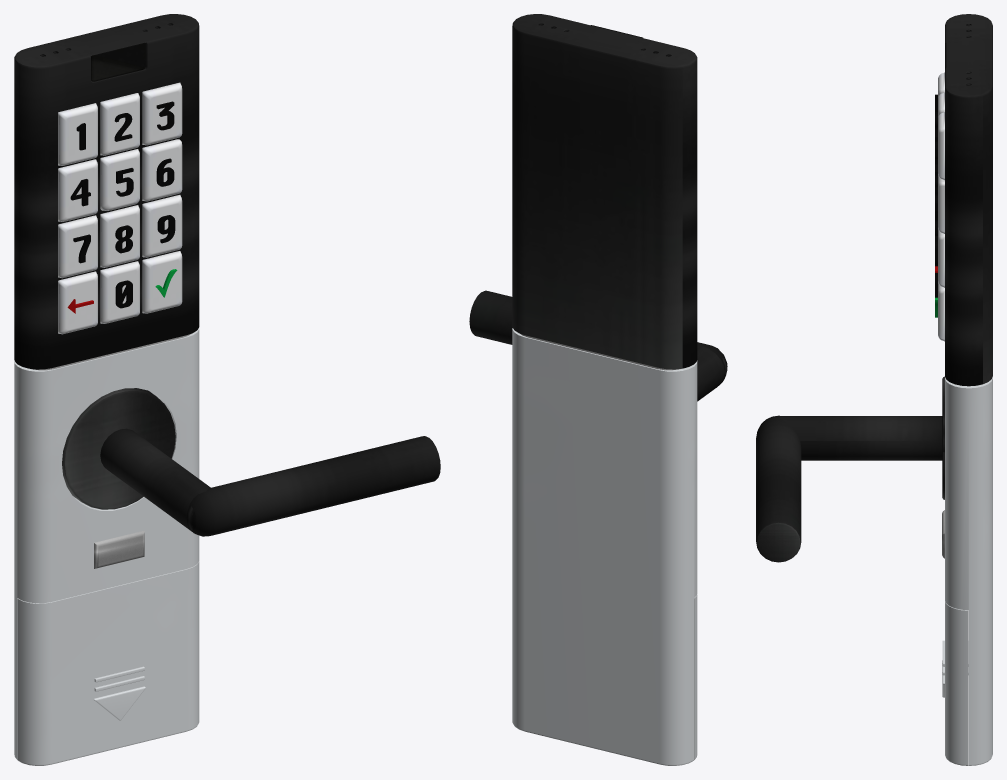
Rendered from wk16_final_dong_jennifer.fbx.
The picture shows the model from 3 angles, left to right: view 1: azimuth 30°, elevation 25°; view 2: azimuth 150°, elevation 25°; view 3: azimuth 270°, elevation 25°; orthographic projection. The views are drawn at different scales.
Visible parts, largest first — view 1: body_lower2, body_upper7, handle_bar, pCylinder2, handle_stem_thing, pound_key, back_key, one, seven, three, two, nine (+8 smaller); view 2: body_lower2, body_upper7, handle_bar, handle_stem_thing; view 3: body_lower2, body_upper7, handle_stem_thing, handle_bar, three.
Boxes of the visible parts, box(x1,y1,x2,y2) form: body_lower2: box(14, 328, 199, 765); body_upper7: box(14, 14, 199, 369); handle_bar: box(187, 436, 440, 536); pCylinder2: box(62, 388, 175, 509); handle_stem_thing: box(100, 428, 210, 530); pound_key: box(142, 251, 182, 313); back_key: box(58, 271, 97, 334); one: box(58, 103, 97, 165); seven: box(58, 215, 97, 278); three: box(142, 82, 182, 145); two: box(100, 93, 139, 155); nine: box(142, 195, 182, 257); body_lower2: box(512, 328, 697, 765); body_upper7: box(512, 14, 697, 369); handle_bar: box(469, 290, 727, 387); handle_stem_thing: box(697, 346, 726, 401); body_lower2: box(945, 376, 992, 765); body_upper7: box(945, 14, 992, 386); handle_stem_thing: box(779, 416, 942, 460); handle_bar: box(756, 415, 801, 562); three: box(938, 112, 944, 180).
Size of the model in its own units: 6.13 by 13.1 by 4.19.
